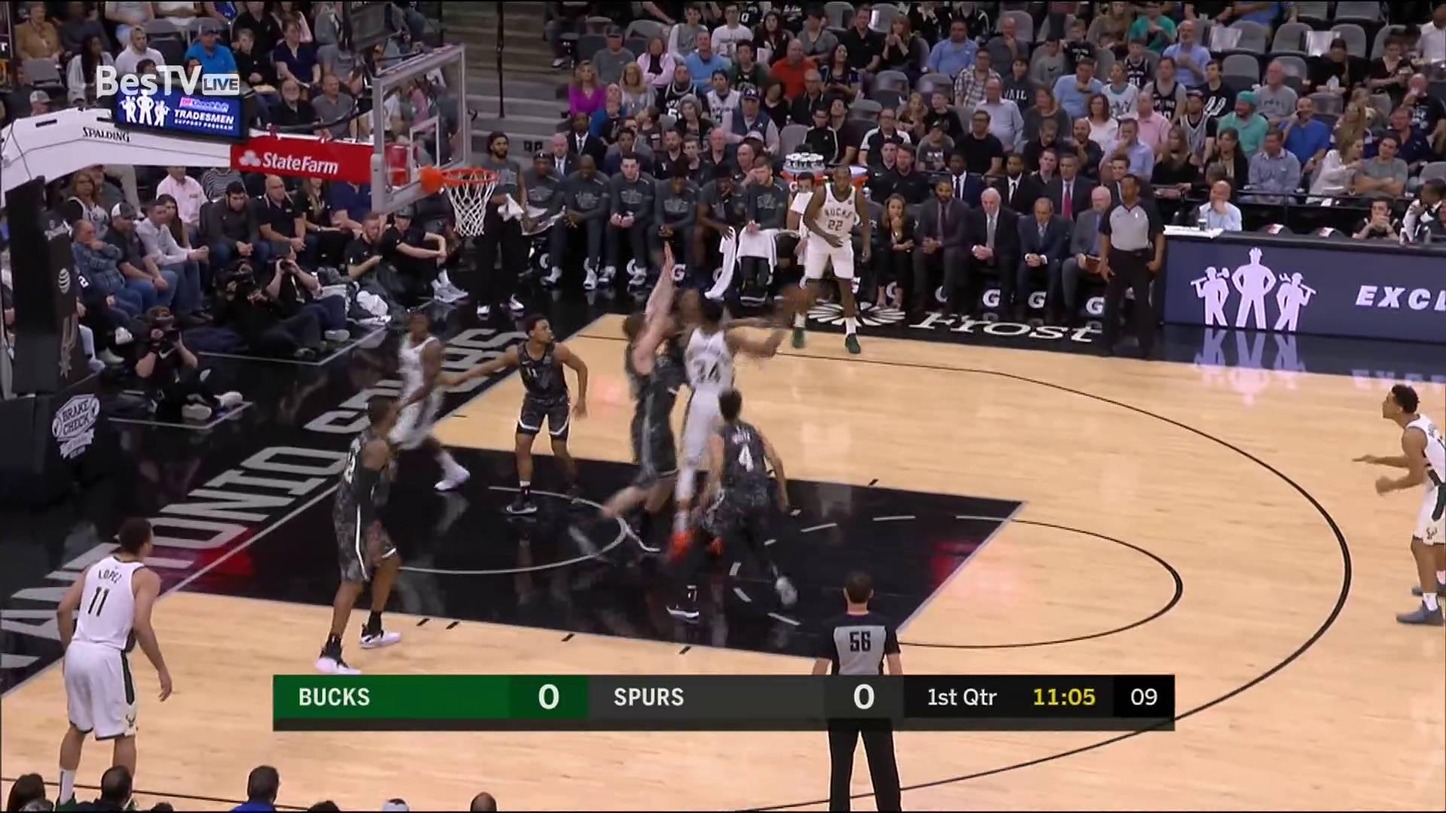basketball: (783, 280, 818, 315)
